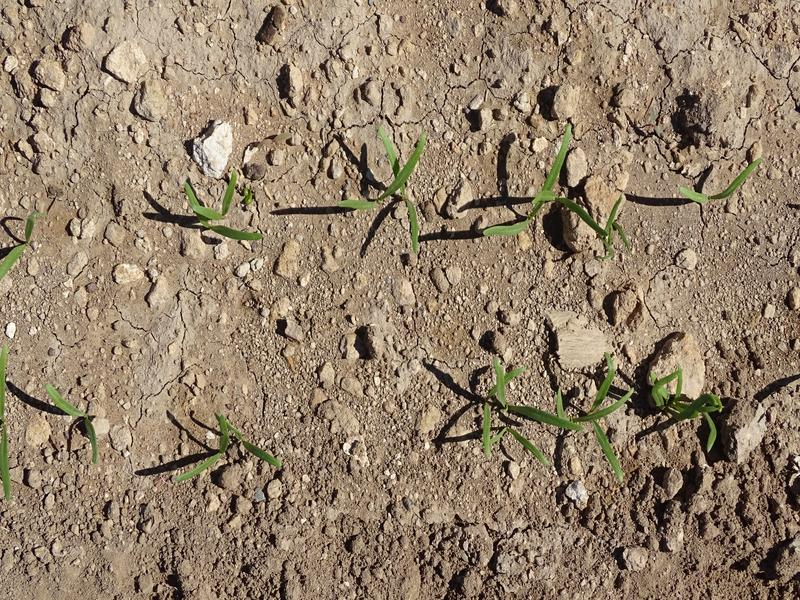Espinaca: (467, 362, 631, 479), (475, 131, 628, 253), (345, 131, 428, 238), (186, 419, 280, 482), (177, 176, 265, 243), (652, 382, 724, 453), (42, 378, 101, 463), (673, 155, 767, 208), (2, 211, 43, 281)
